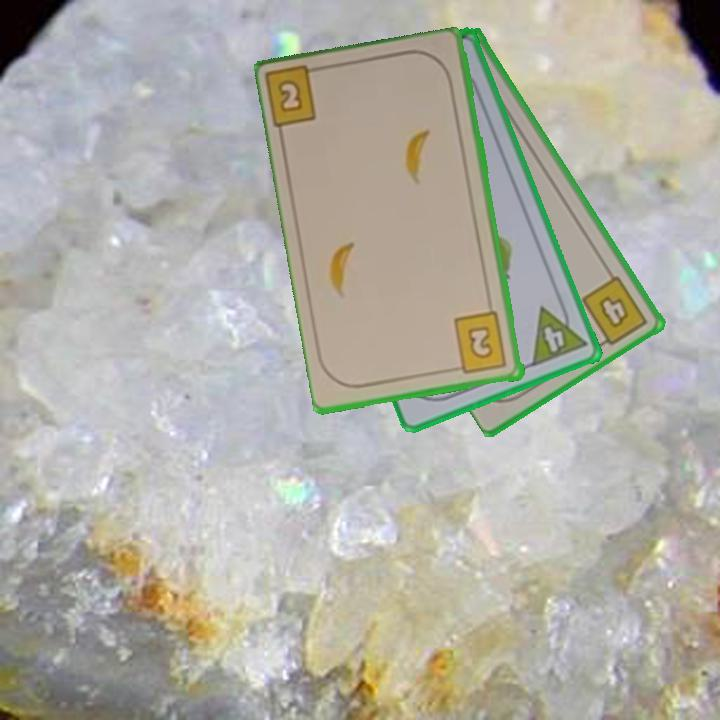2b: (264, 63, 329, 133), (449, 309, 510, 377)
4b: (578, 272, 651, 351)
4p: (528, 296, 590, 370)
